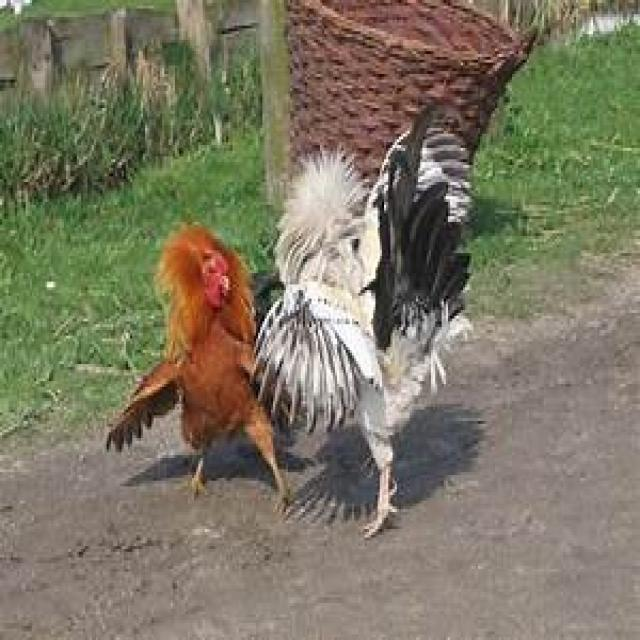hen: (247, 91, 486, 538), (102, 225, 290, 503)
